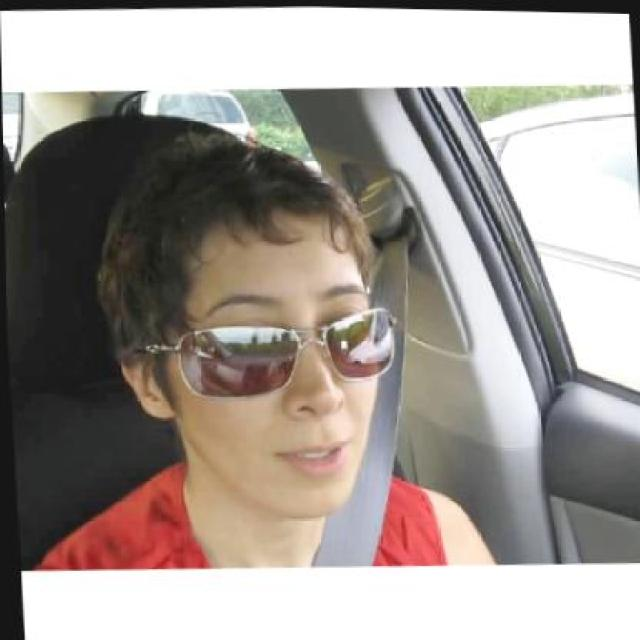attentif: (109, 126, 382, 520)
